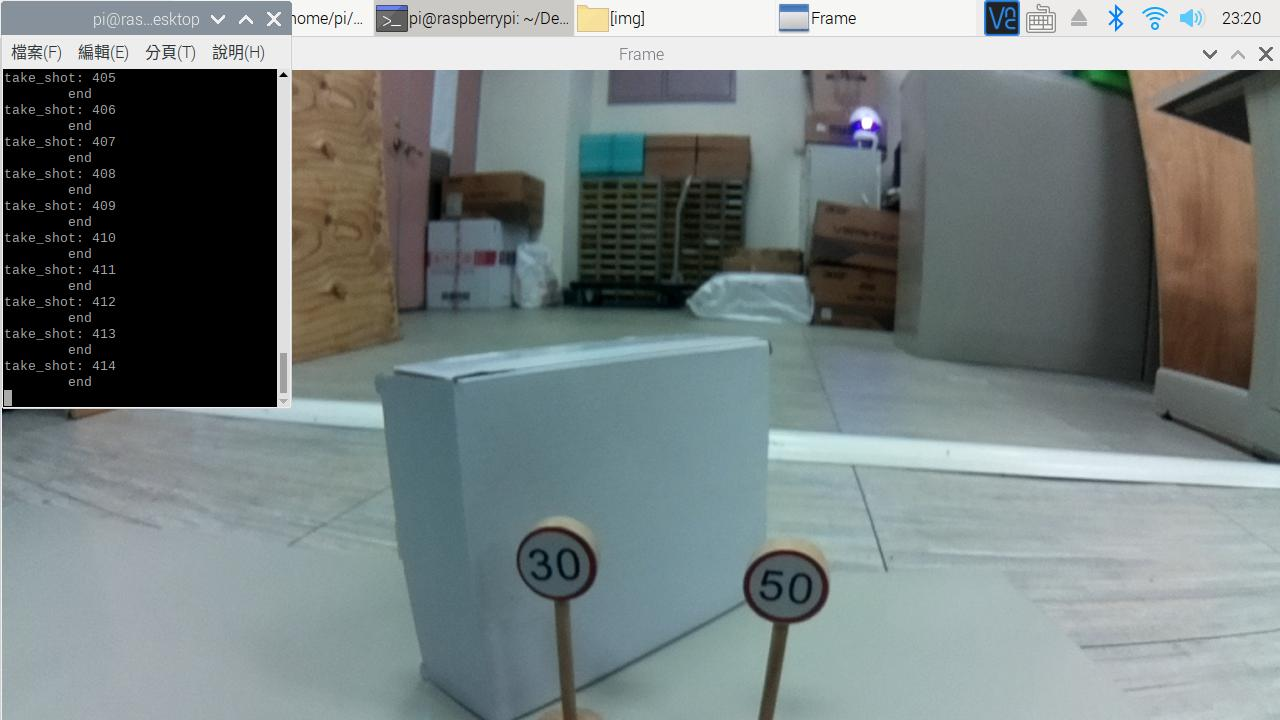Speed30: (495, 486, 620, 629)
Speed50: (731, 530, 863, 636)
